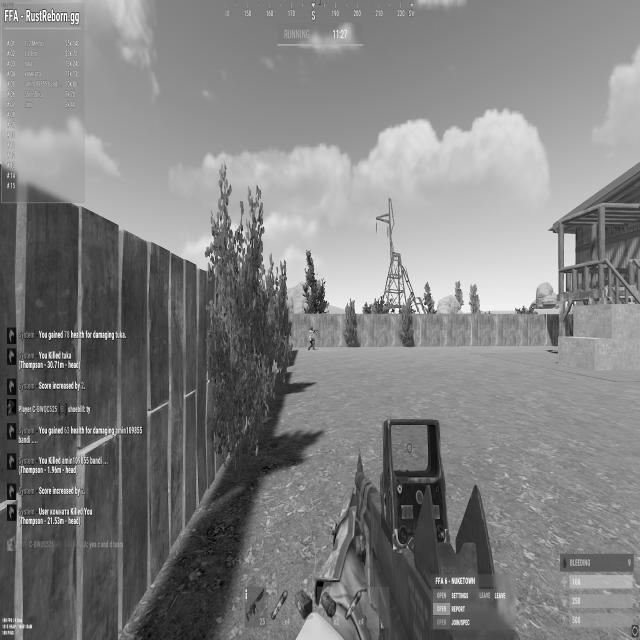Player: (307, 323, 316, 350), (310, 324, 313, 330)
